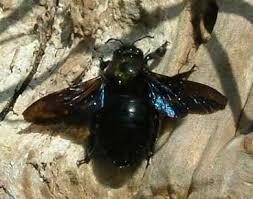Xylocopa: (14, 32, 230, 169)
